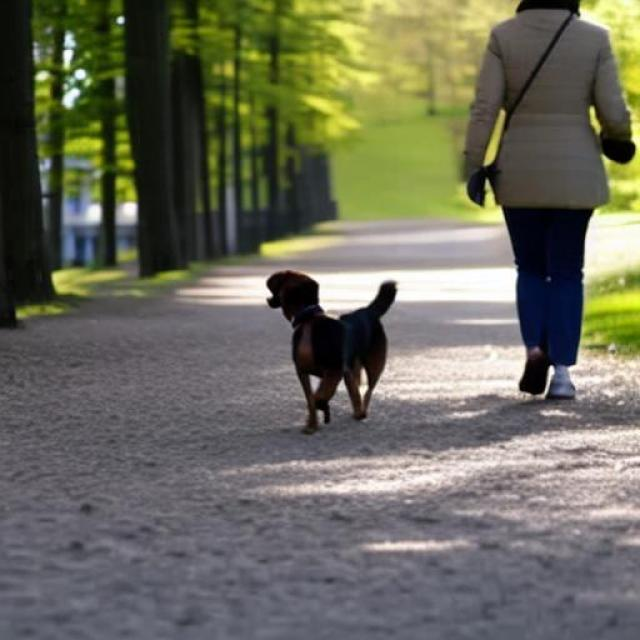Unleashed_Dog: (266, 209, 597, 434)
